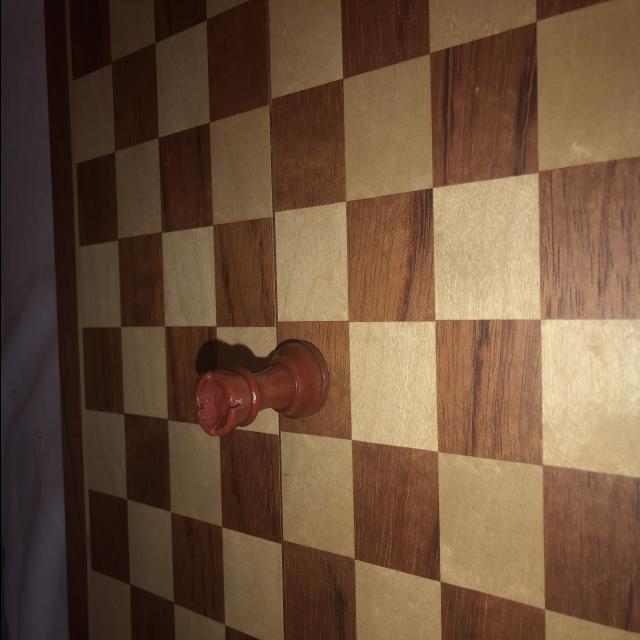black_rook: (197, 341, 331, 436)
